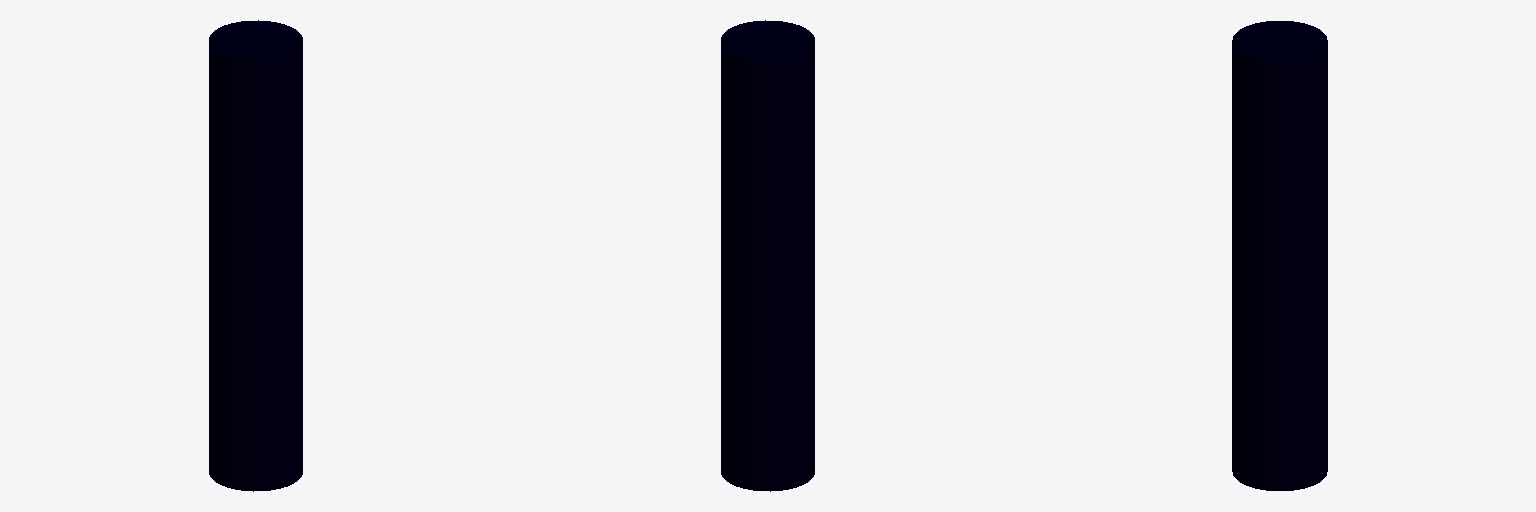
The robot description file, URDF, robot "cylinder":
<?xml version="1.0" ?>

<robot name="cylinder">
  <!-- ======================================= -->
 
 
 
  <link name="cylinder">
  <contact>
      <lateral_friction value="0.4"/>
      <spinning_friction value="0"/>
      <rolling_friction value="0"/>
    </contact>
    
    <visual>
      <origin rpy="0 0 0" xyz="0 0 0"/>
      <geometry>
        <cylinder radius="0.02" length="0.2" />
      </geometry>
      <material name="">
        <color rgba="0.0 0.0 0.1 1"/>
      </material>
    </visual>
    
    <inertial>
      <origin rpy="0 0 0" xyz="0 0 0"/>
      <mass value="1"/>
      <inertia ixx="0.0034333333333333334" ixy="0" ixz="0" iyy="0.0034333333333333334" iyz="0" izz="0.0002"/>
    </inertial>
    
    <collision>
      <origin rpy="0 0 0" xyz="0 0 0"/>
      <geometry>
        <cylinder radius="0.02" length="0.2" />
      </geometry>
    </collision>
  </link>
  
  
  
  
  
  </robot>

--- Facts derived from the render (not from the file) ---
3 views of the same robot in one strip: view 1: azimuth 30°, elevation 25°; view 2: azimuth 150°, elevation 25°; view 3: azimuth 270°, elevation 25° (orthographic).
Robot: cylinder — 1 links, 0 joints (none); root link cylinder; default pose: all joints at 0.
Links seen in each view (by area): view 1: cylinder; view 2: cylinder; view 3: cylinder.
Boxes of the visible links, box(x1,y1,x2,y2) form: cylinder: box(209, 20, 302, 491); cylinder: box(721, 20, 814, 491); cylinder: box(1232, 21, 1327, 490).
Size in the robot's own frame: 0.04 by 0.04 by 0.2 metres.
Geometry: primitives only (box / cylinder / sphere), no mesh files.